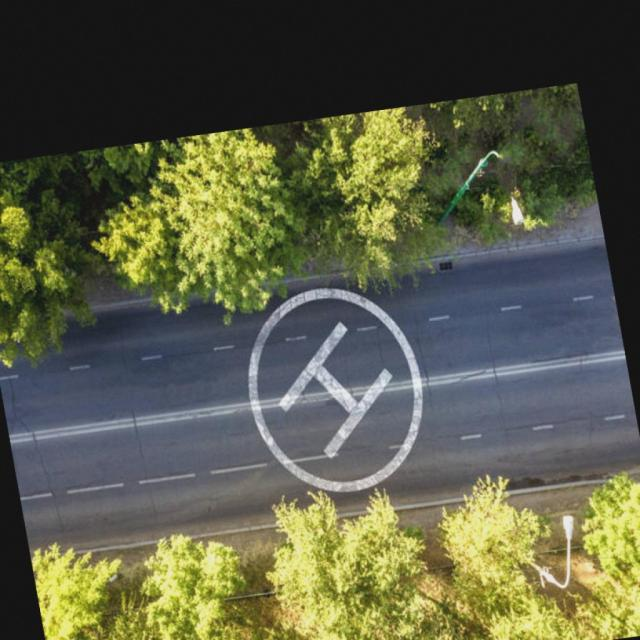helipad: (243, 281, 427, 498)
